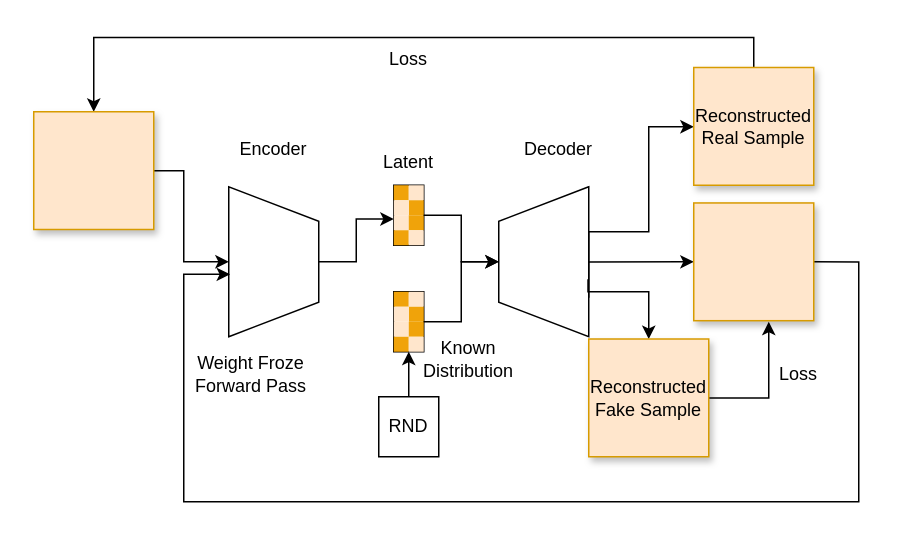
The diagram is 897 pixels wide and 540 high, and some of its shapes have lost their labels. Each missing label, with the centre of its shape:
Fake Sample: the point at 755,263
Real Sample: the point at 95,172
